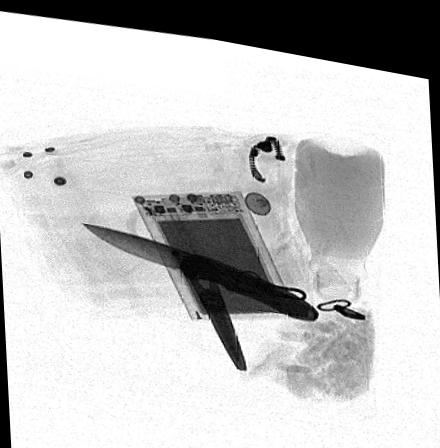Knife: (75, 217, 319, 310)
Powerbank: (131, 181, 305, 314)
Scissors: (124, 193, 248, 360)
